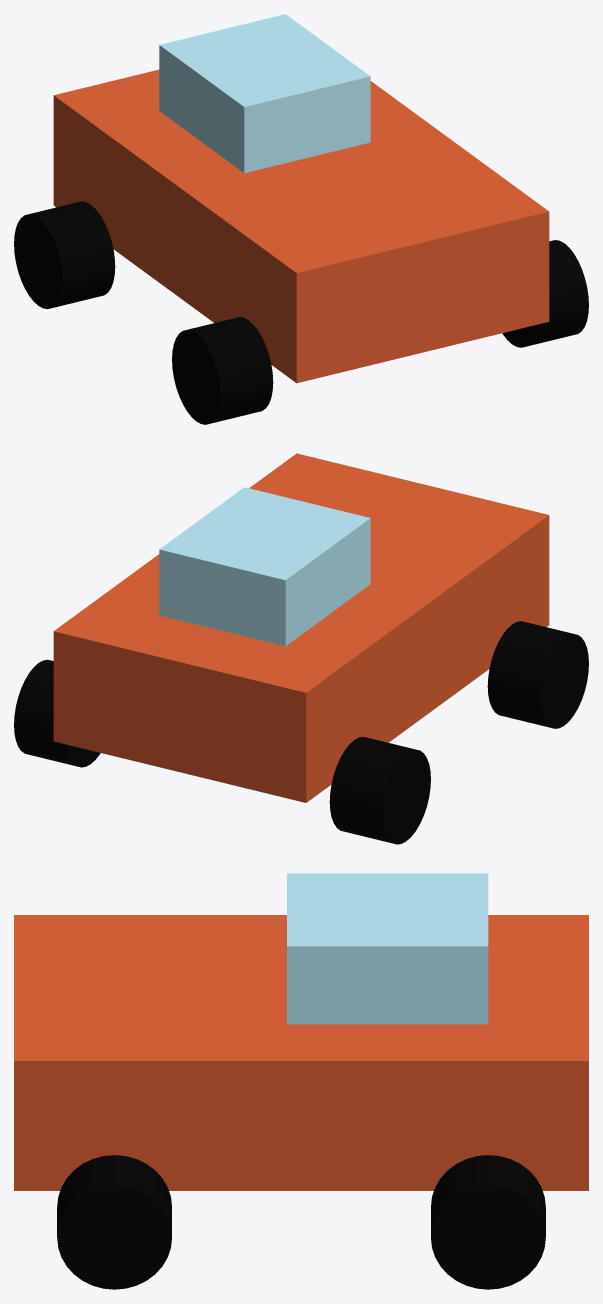
Rendered from prototype51.fbx.
3 views of the same model, one above another, from view 1: azimuth 30°, elevation 25°; view 2: azimuth 150°, elevation 25°; view 3: azimuth 270°, elevation 25° (orthographic). The views are drawn at different scales.
Parts seen in each view (by area): view 1: Chassis, Roof, mesh_RF, mesh_RR, mesh_LF; view 2: Chassis, Roof, mesh_RF, mesh_RR, mesh_LR; view 3: Chassis, Roof, mesh_LF, mesh_LR.
Part boxes in pixels (left/top/right/bottom): Chassis: left=53, top=69, right=549, bottom=383; Roof: left=159, top=14, right=370, bottom=173; mesh_RF: left=172, top=317, right=273, bottom=424; mesh_RR: left=14, top=201, right=115, bottom=309; mesh_LF: left=502, top=240, right=588, bottom=347; Chassis: left=53, top=453, right=549, bottom=802; Roof: left=159, top=487, right=370, bottom=646; mesh_RF: left=487, top=621, right=588, bottom=728; mesh_RR: left=329, top=736, right=430, bottom=844; mesh_LR: left=14, top=659, right=100, bottom=767; Chassis: left=14, top=915, right=588, bottom=1190; Roof: left=287, top=873, right=488, bottom=1024; mesh_LF: left=57, top=1155, right=171, bottom=1289; mesh_LR: left=431, top=1155, right=545, bottom=1289.
Size of the model in its own units: 1.75 by 1.05 by 2.
